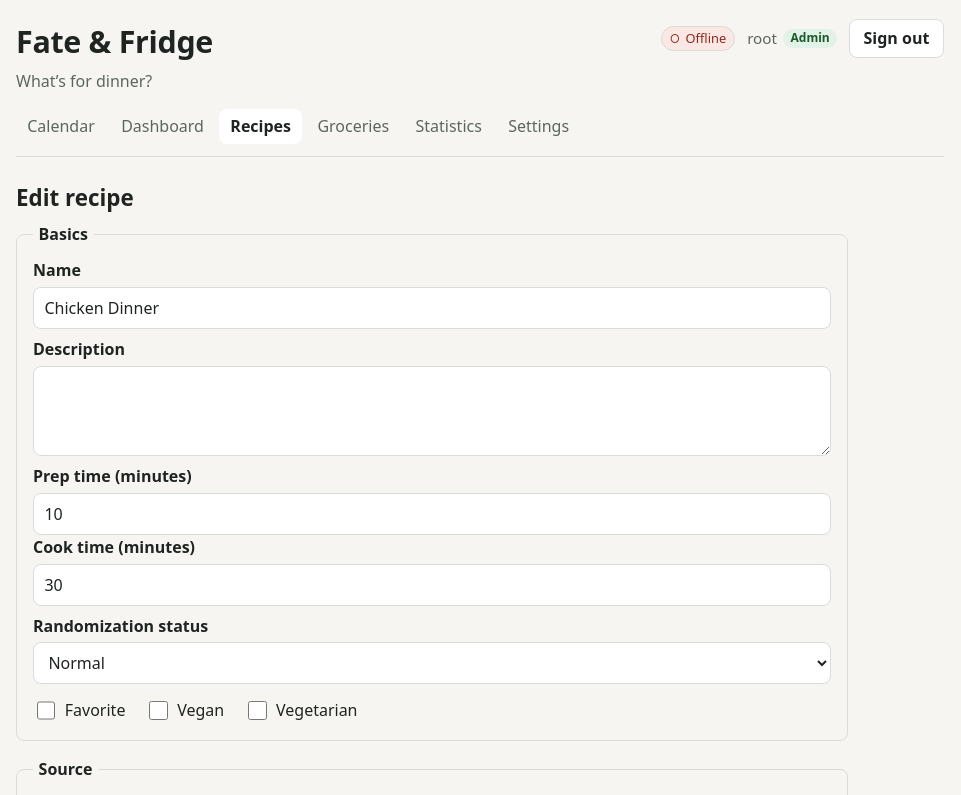
Test: recipe form › loads an existing recipe and saves the edited name
Replace the text in the field labelled "Name" with "Chicken Supper" at {"x": 432, "y": 308}, box [33,287,831,329]
(page scrolled)
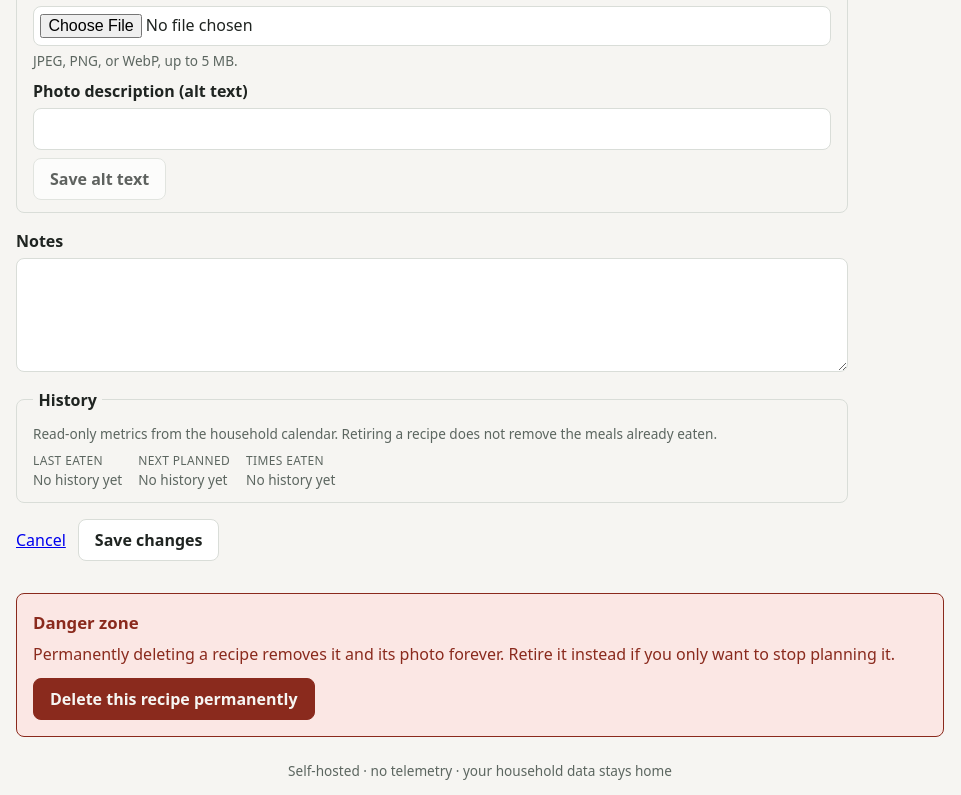
Click the button "Save changes" at {"x": 149, "y": 540}, box [78,519,220,561]
(page scrolled)
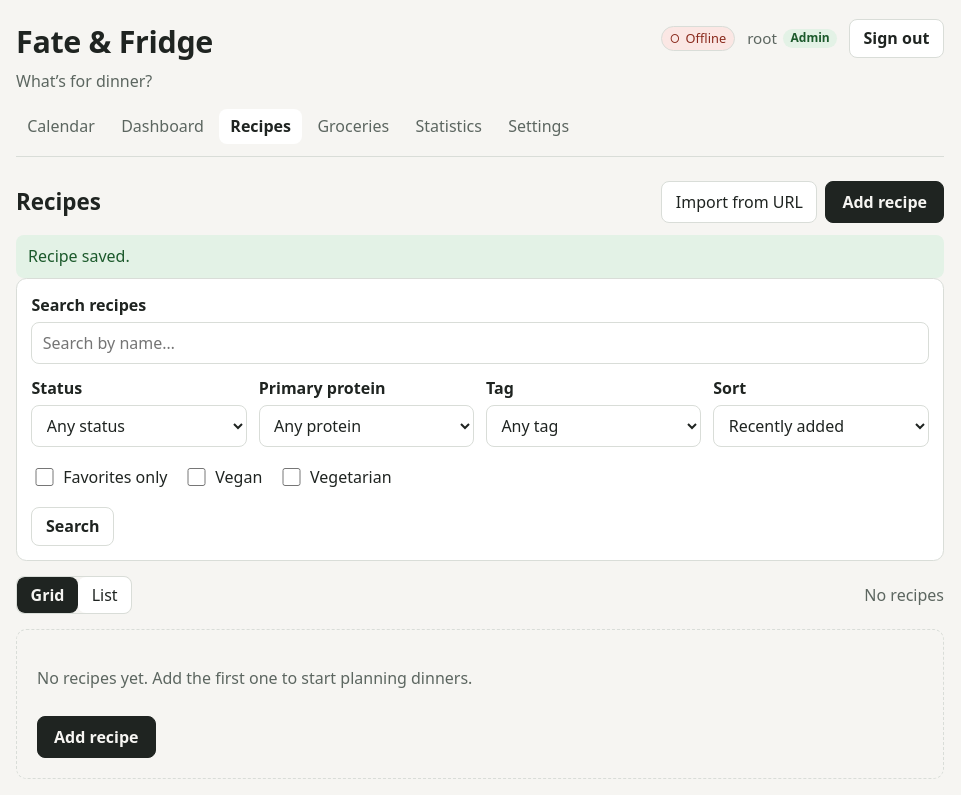
Expected: the heading "Recipes" is shown, [16,185,101,219]
Expected: the text "Recipe saved." is shown, [16,235,944,278]
